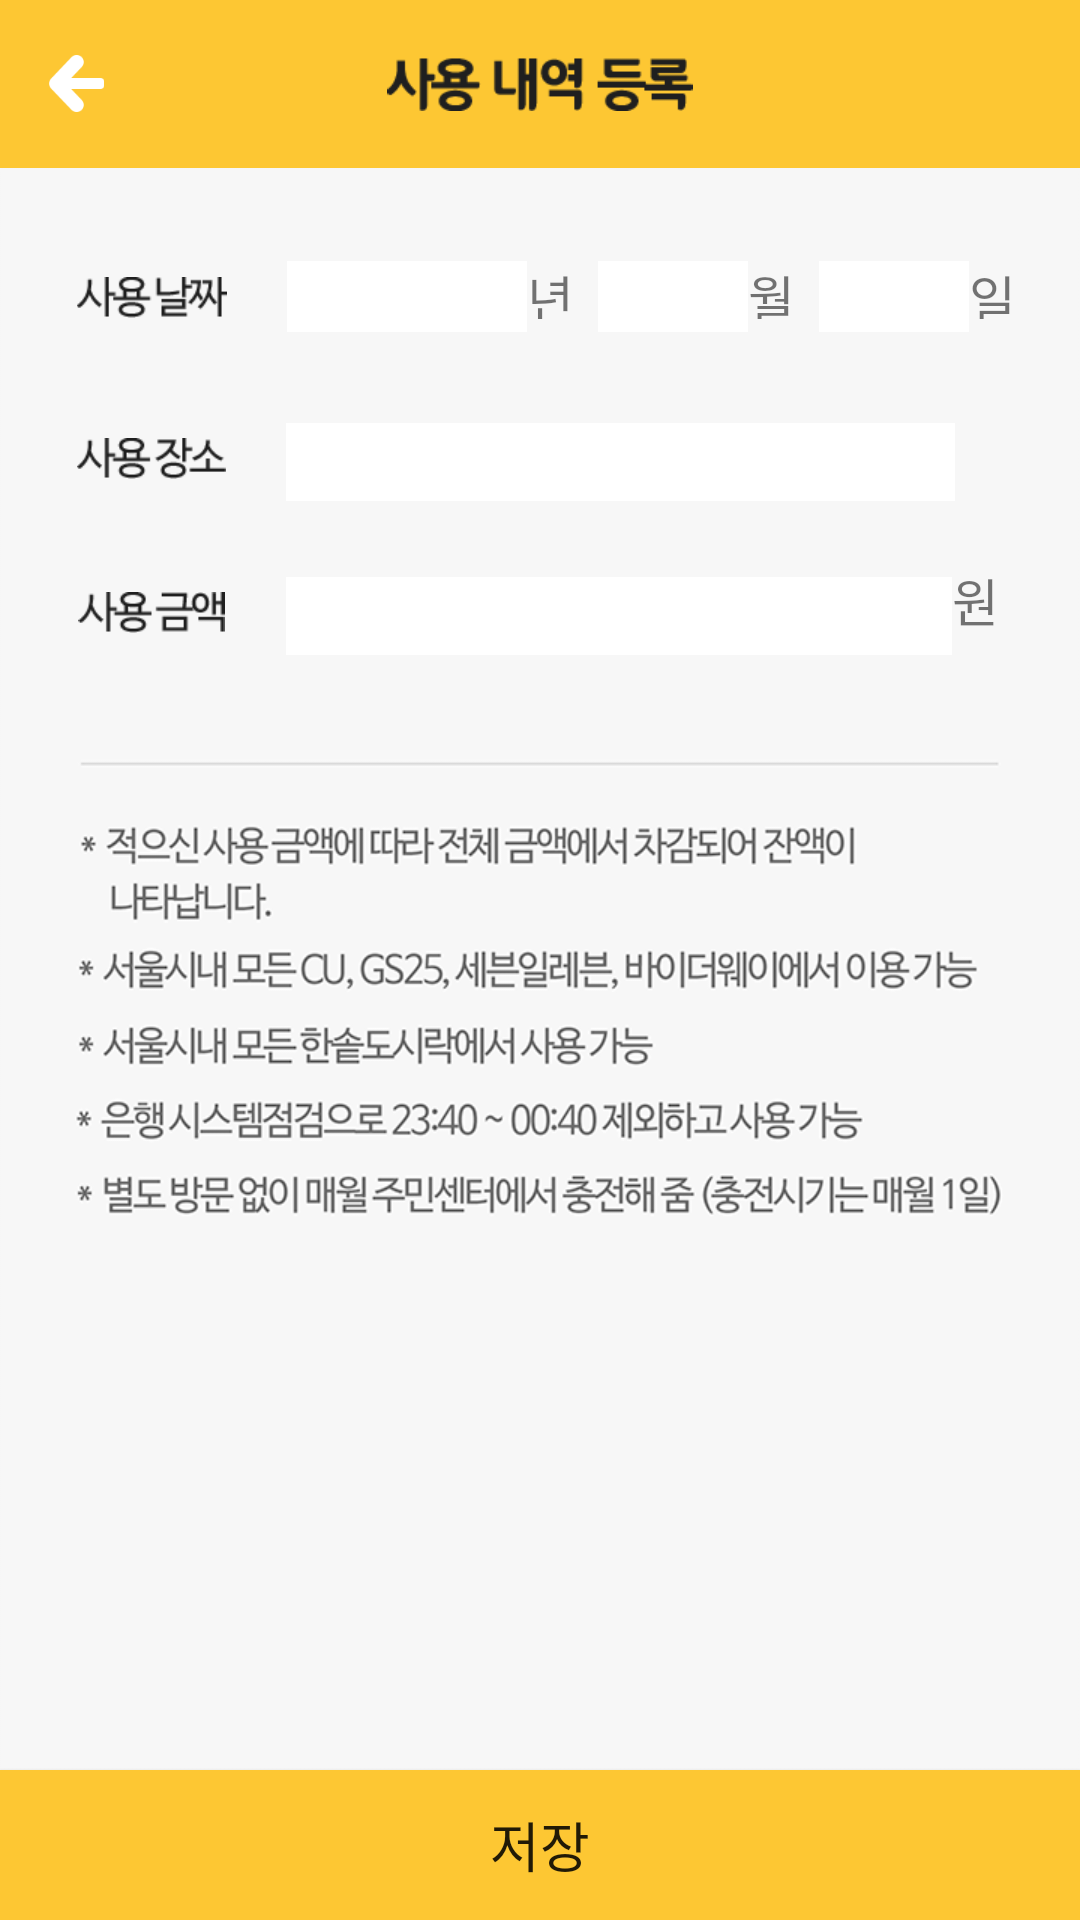

Icons on this 1080×1920 Android screen, each with the point to tap as (x,y):
backbtn: (76,83)
